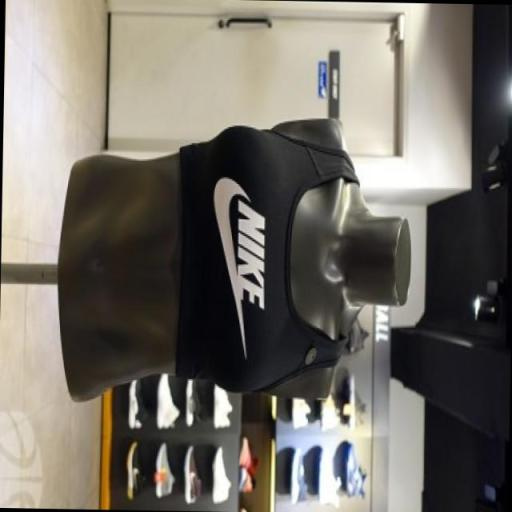Nike: (210, 174, 243, 332), (234, 199, 264, 310)
